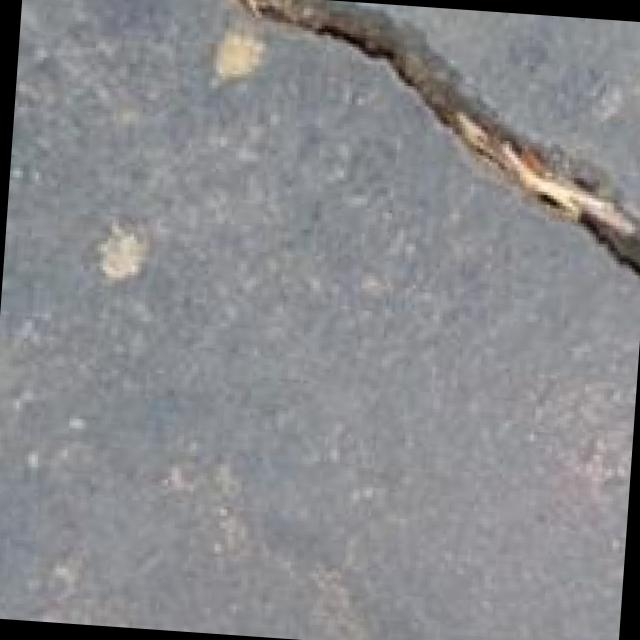crack: (211, 0, 640, 351)
